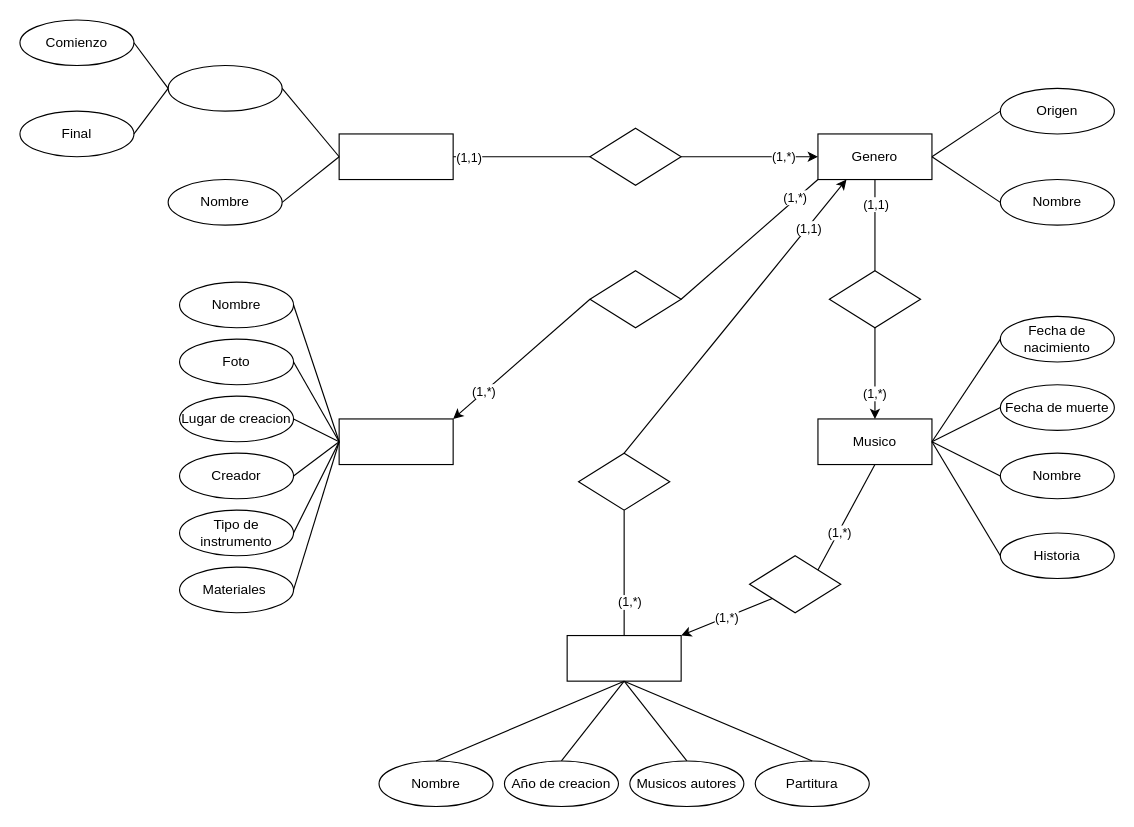
Image size: 1134x827. Some labels were removed from this diagram. Each missing label, with the centre of its shape:
Aparecen: (x=635, y=299)
Componen: (x=794, y=584)
Epoca: (x=395, y=156)
Instrumento musical: (x=395, y=441)
Obra famosa: (x=623, y=657)
Periodo: (x=224, y=87)
Pertenece: (x=623, y=481)
Posee: (x=635, y=156)
TIene: (x=874, y=299)
